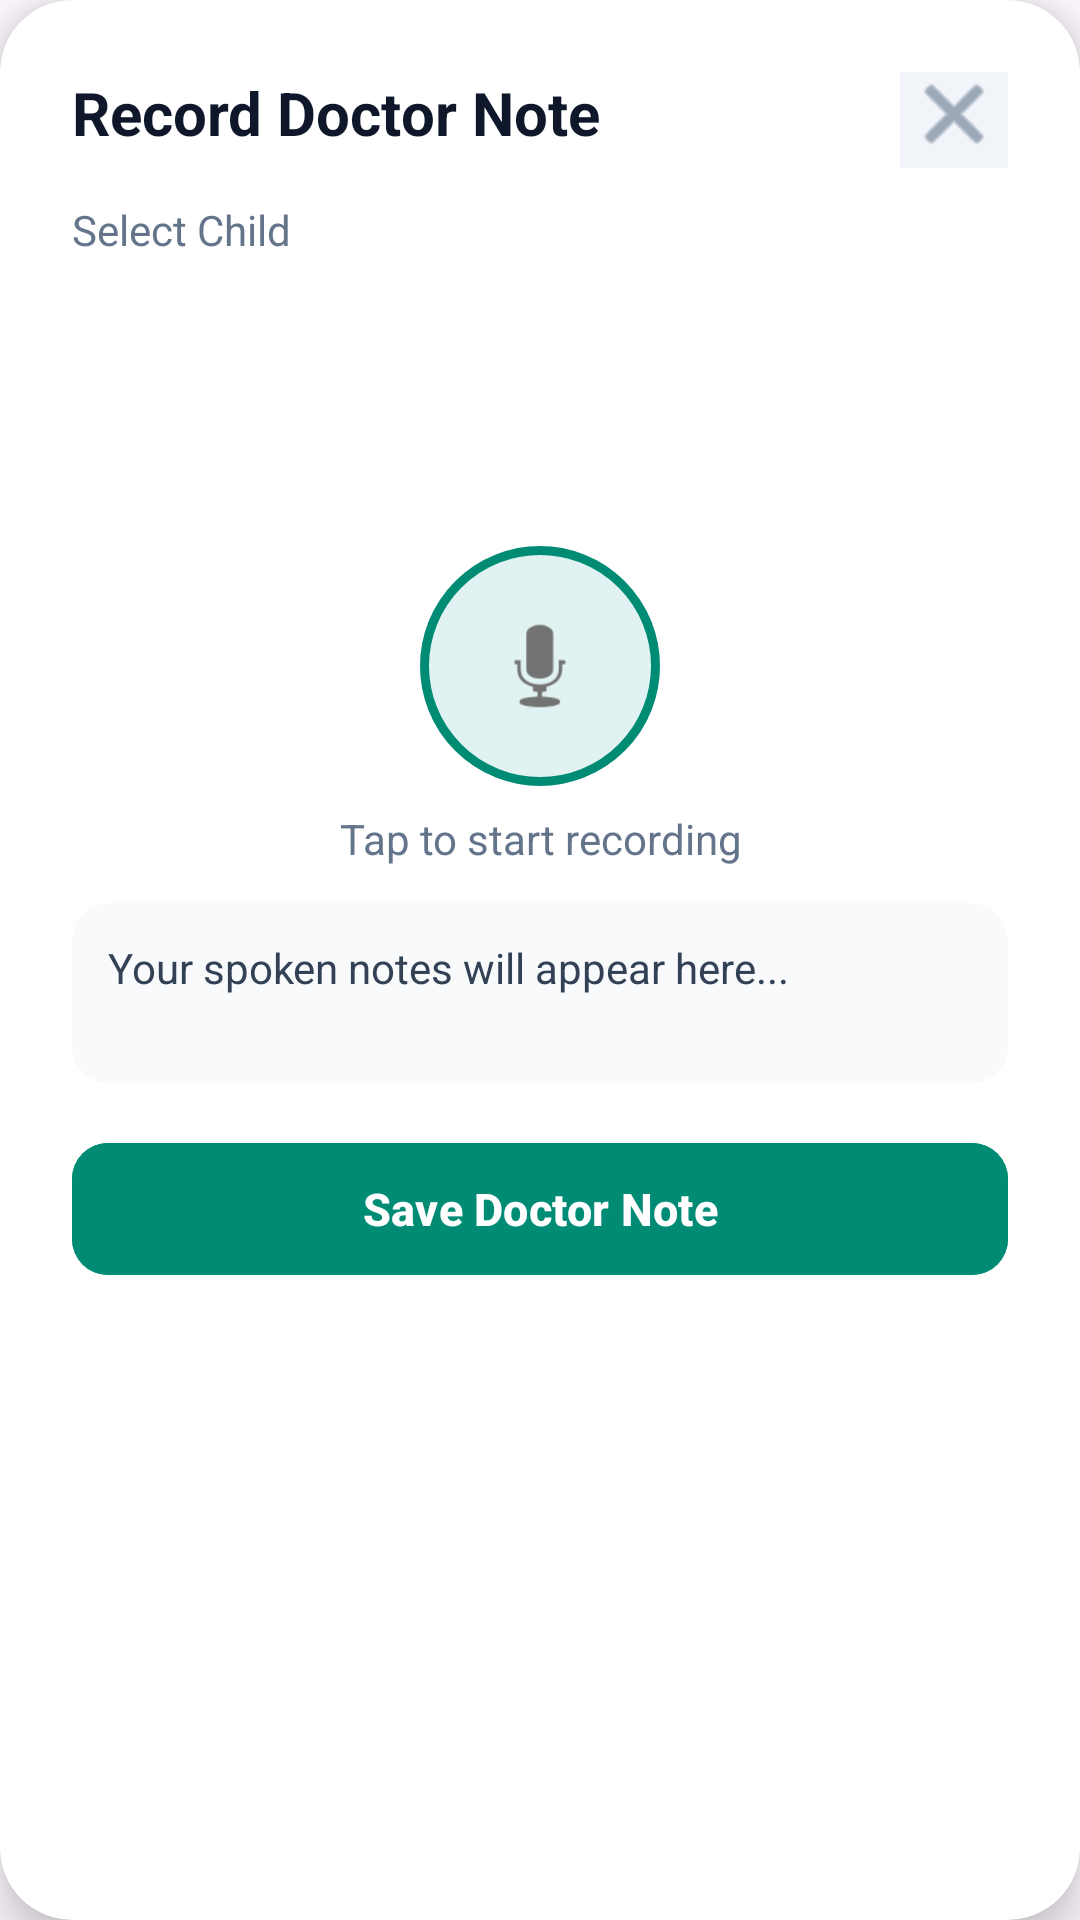

Icon click points for this 1080px x 1920px phone screenshot, format (x,y):
close clear cancel: (954,114)
